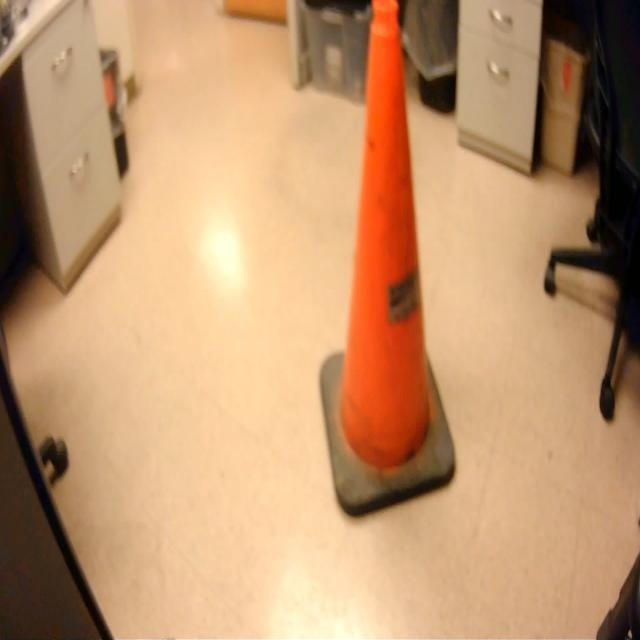traffic cone: (316, 1, 465, 525)
